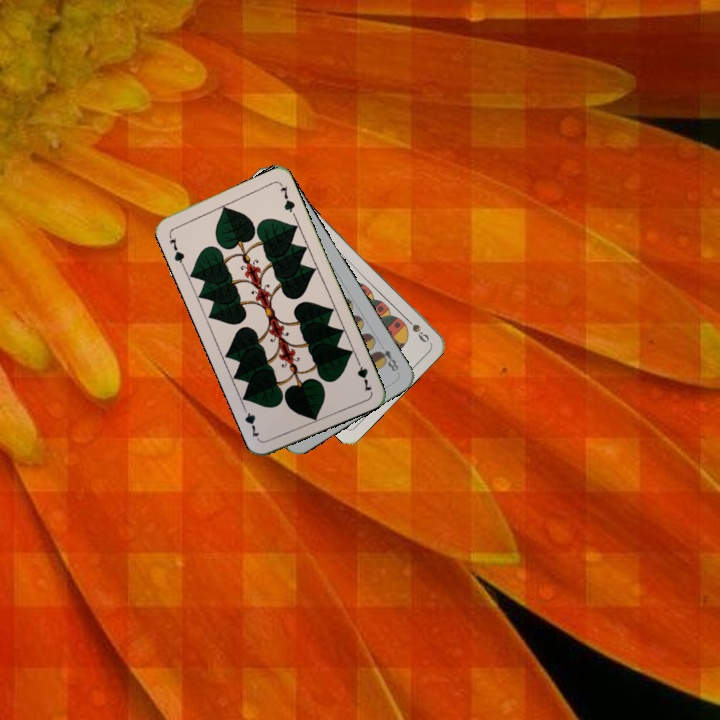E8: (373, 345, 401, 376)
G7: (352, 354, 375, 394), (165, 230, 187, 269)
S9: (400, 312, 432, 345)
